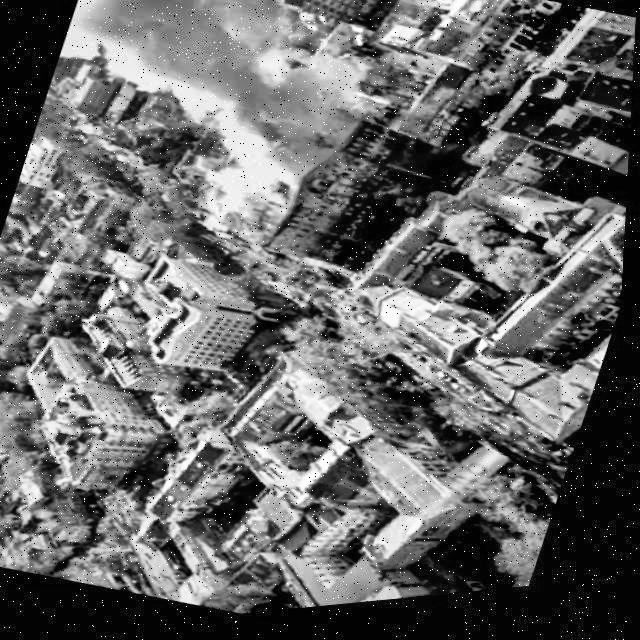Smoke: (17, 0, 399, 259)
